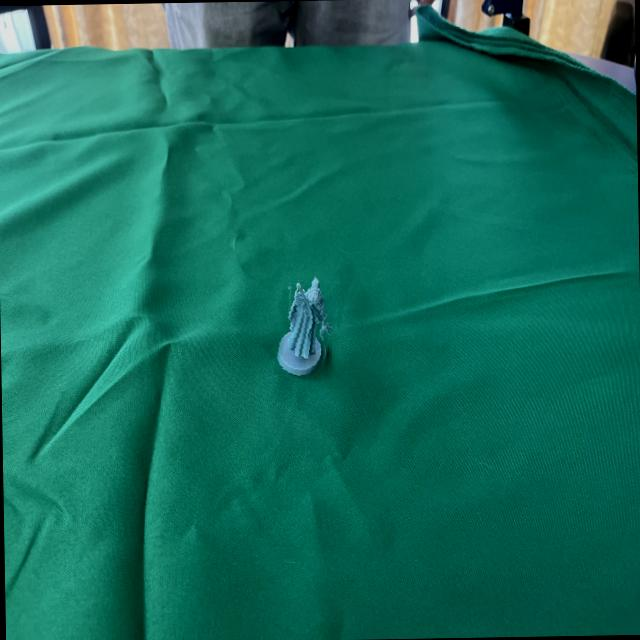isis_follower: (276, 269, 336, 381)
